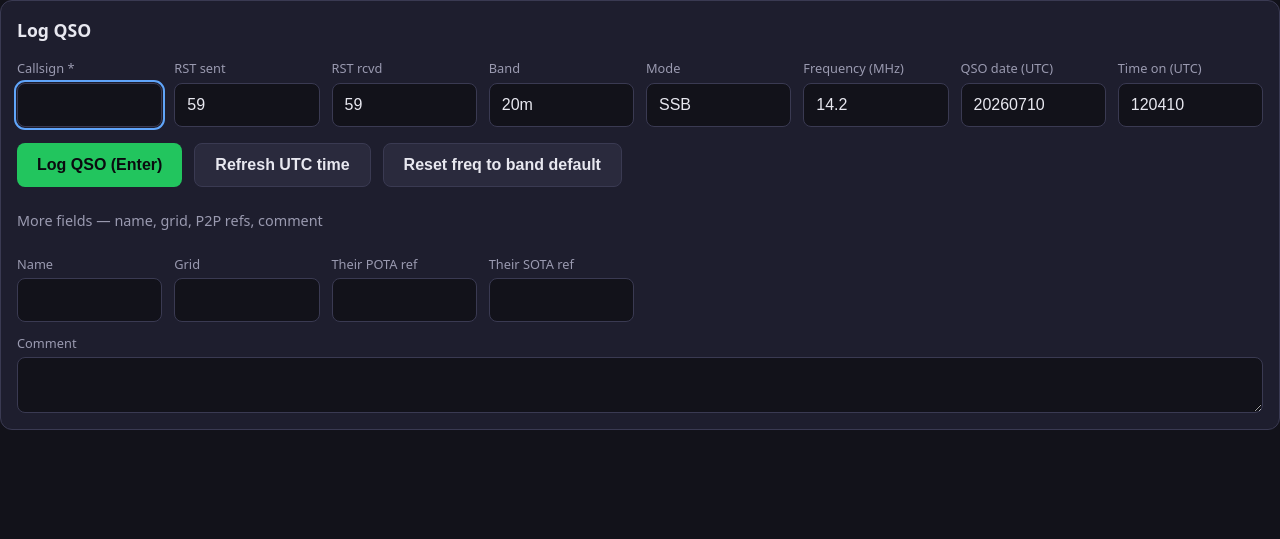
Scenario: EntryForm validation › requires explicit confirmation for a warning and then logs unchanged data
The width and height of the screenshot is (1280, 539).
In the field labelled "Callsign *": (90, 105) x1=17 y1=83 x2=162 y2=127, type "W1AW"
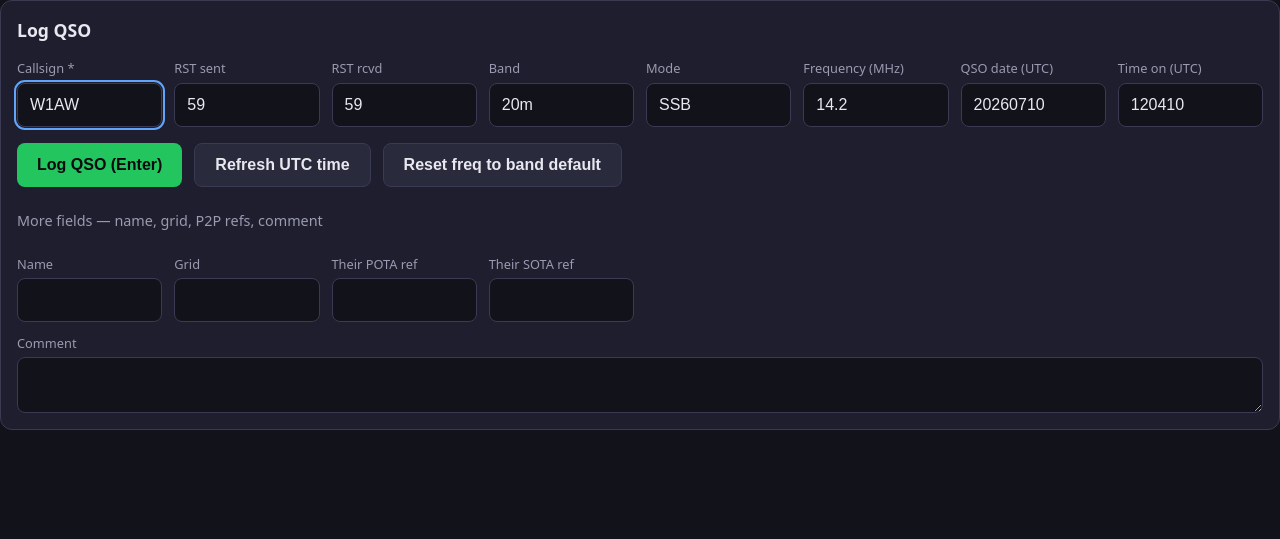
In the field labelled "Grid": (247, 300) x1=174 y1=278 x2=320 y2=322, type "NOT-A-GRID"
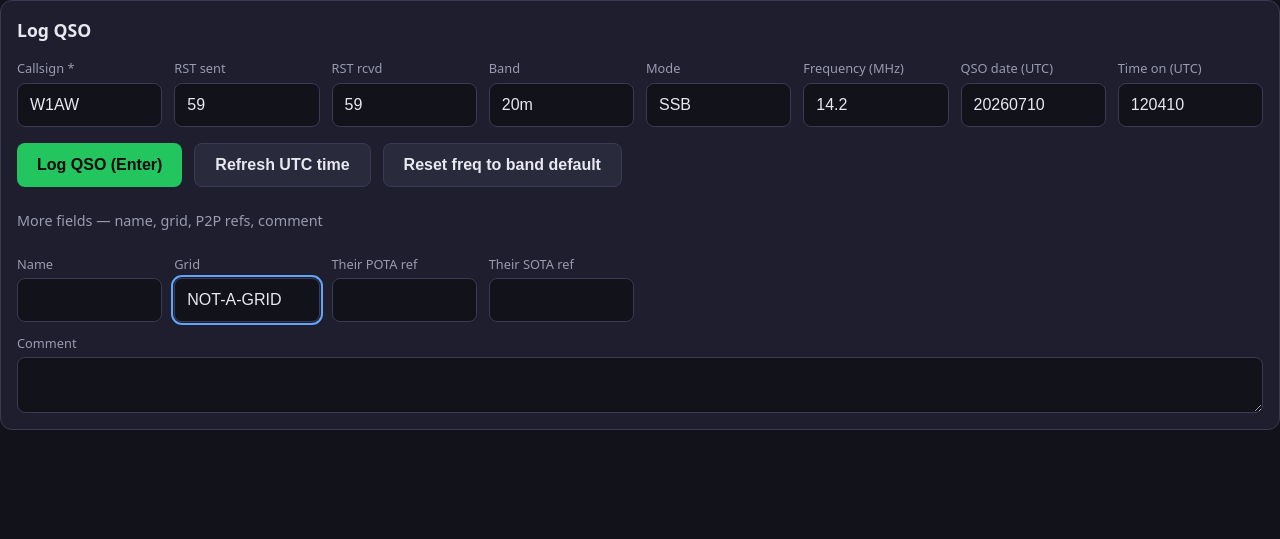
Click the button "Log QSO (Enter)": (100, 165) x1=17 y1=143 x2=182 y2=187
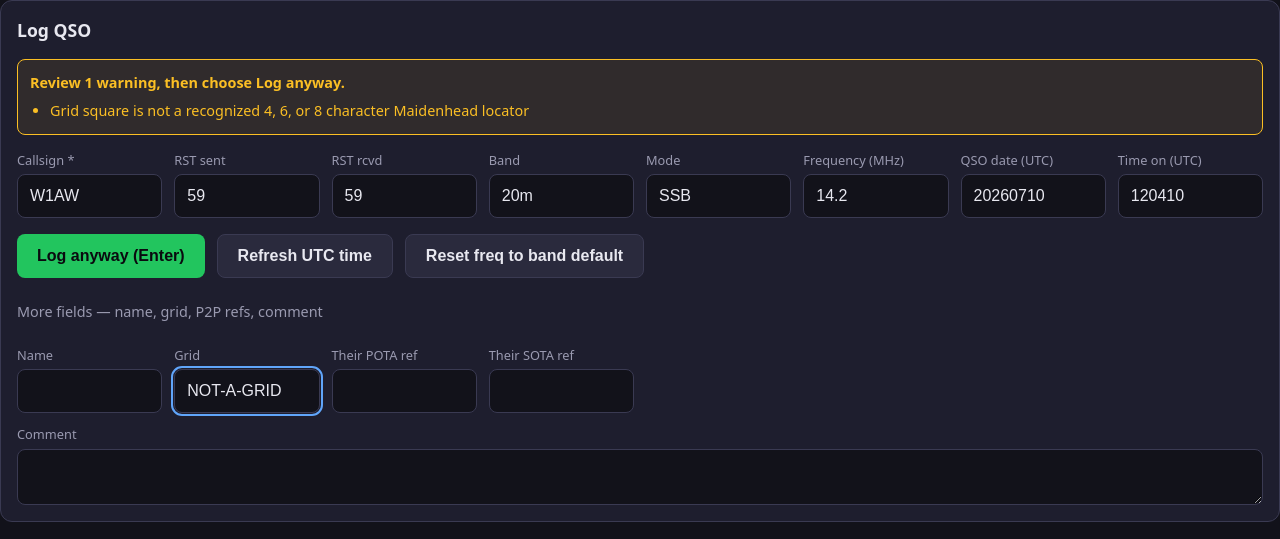
Check: the message shows "Review 1 warning", box x1=30 y1=73 x2=345 y2=92
Check: the list item is shown, box x1=50 y1=101 x2=529 y2=120
Click the button "Log anyway (Enter)": (111, 256) x1=17 y1=234 x2=205 y2=278
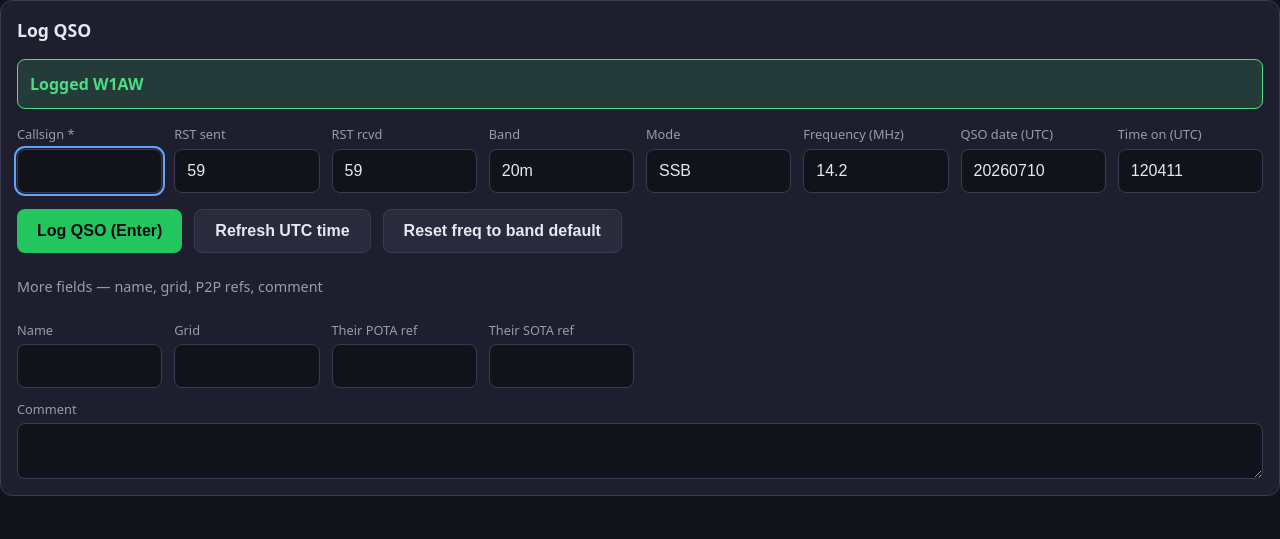
Check: the text "Logged W1AW" is shown, box x1=17 y1=59 x2=1263 y2=109
